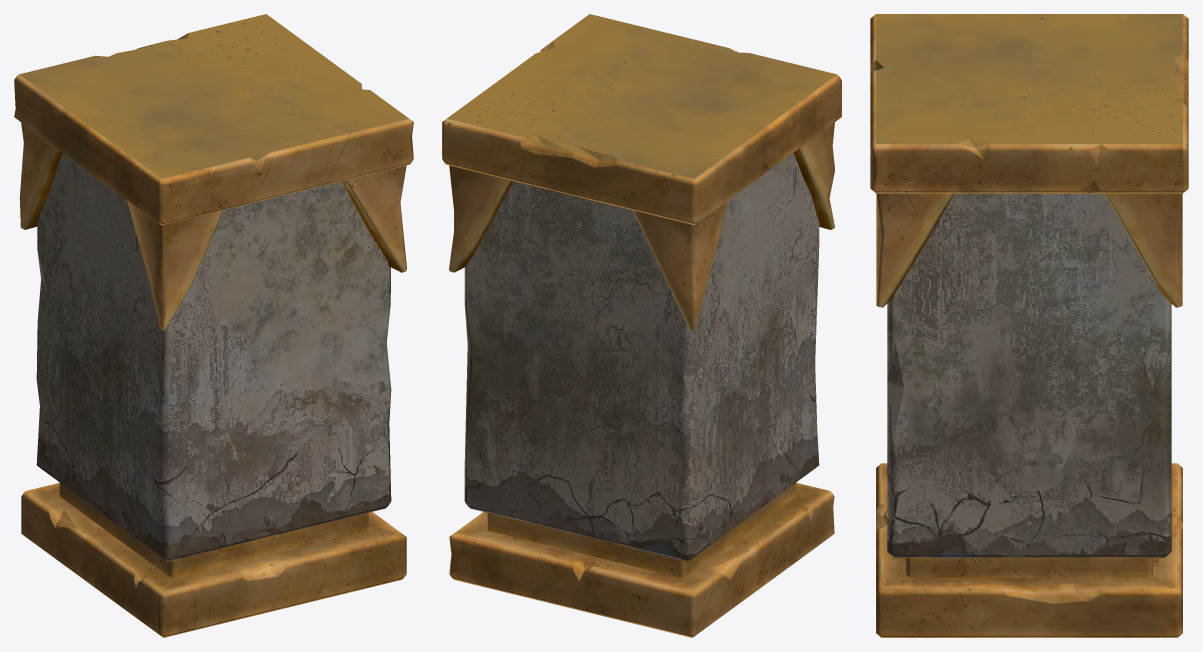
3 views of the same model, side by side, from view 1: azimuth 30°, elevation 25°; view 2: azimuth 150°, elevation 25°; view 3: azimuth 270°, elevation 25° (orthographic). The views are drawn at different scales.
Parts seen in each view (by area): view 1: SM_Vault_2x1m_Column_01_LOD0; view 2: SM_Vault_2x1m_Column_01_LOD0; view 3: SM_Vault_2x1m_Column_01_LOD0.
Boxes of the visible parts, box(x1,y1,x2,y2) form: SM_Vault_2x1m_Column_01_LOD0: box(14, 14, 413, 637); SM_Vault_2x1m_Column_01_LOD0: box(442, 14, 841, 637); SM_Vault_2x1m_Column_01_LOD0: box(870, 14, 1188, 637).
Bounding box in the file's own units: 1.16 × 2 × 1.16.
Materials: 3 (3 with a texture image).
